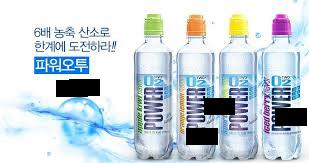powerO2_orange: (176, 12, 219, 162)
